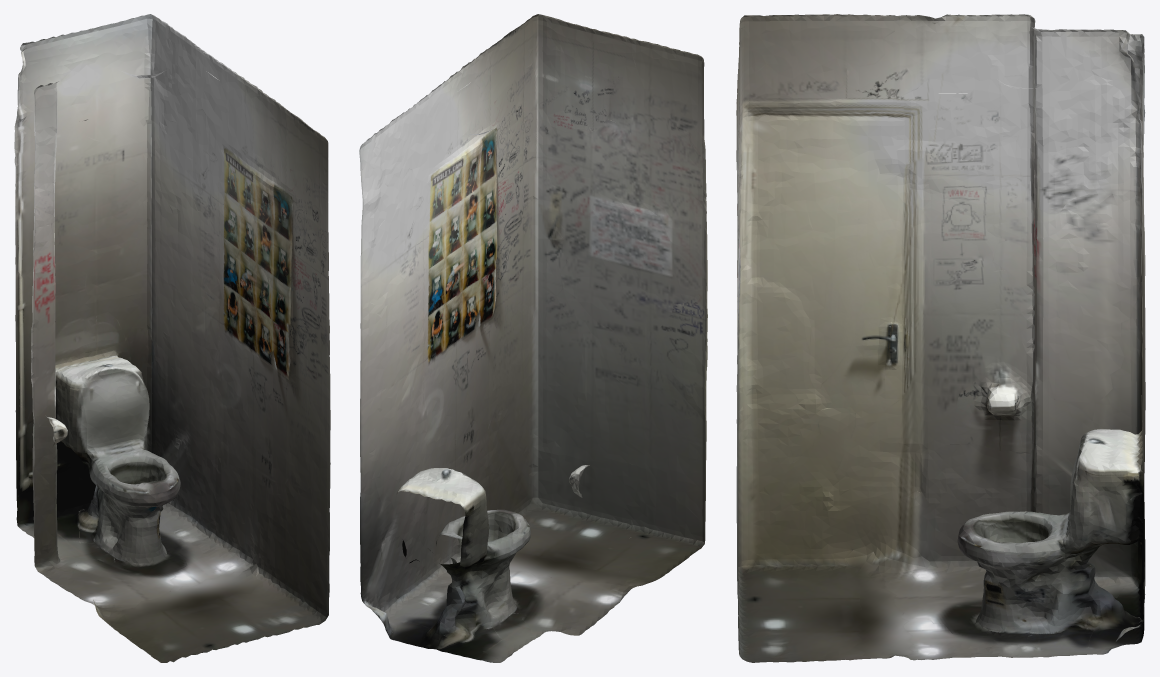
File: best_loo.glb
3 views of the same model, side by side, from view 1: azimuth 30°, elevation 25°; view 2: azimuth 150°, elevation 25°; view 3: azimuth 270°, elevation 25° (orthographic). The views are drawn at different scales.
Bounding box in the file's own units: 0.9349 × 2.45 × 1.62.
1 material, 1 textured.
